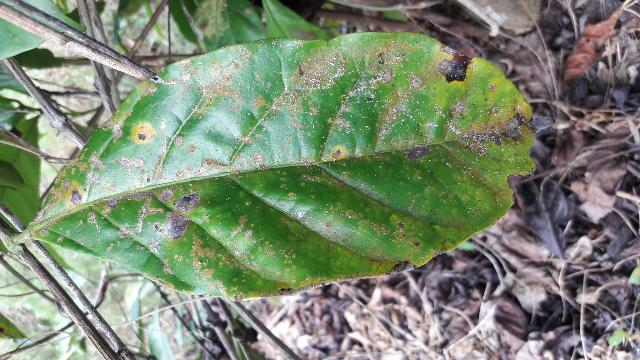red_spider_mite: (29, 34, 530, 291)
